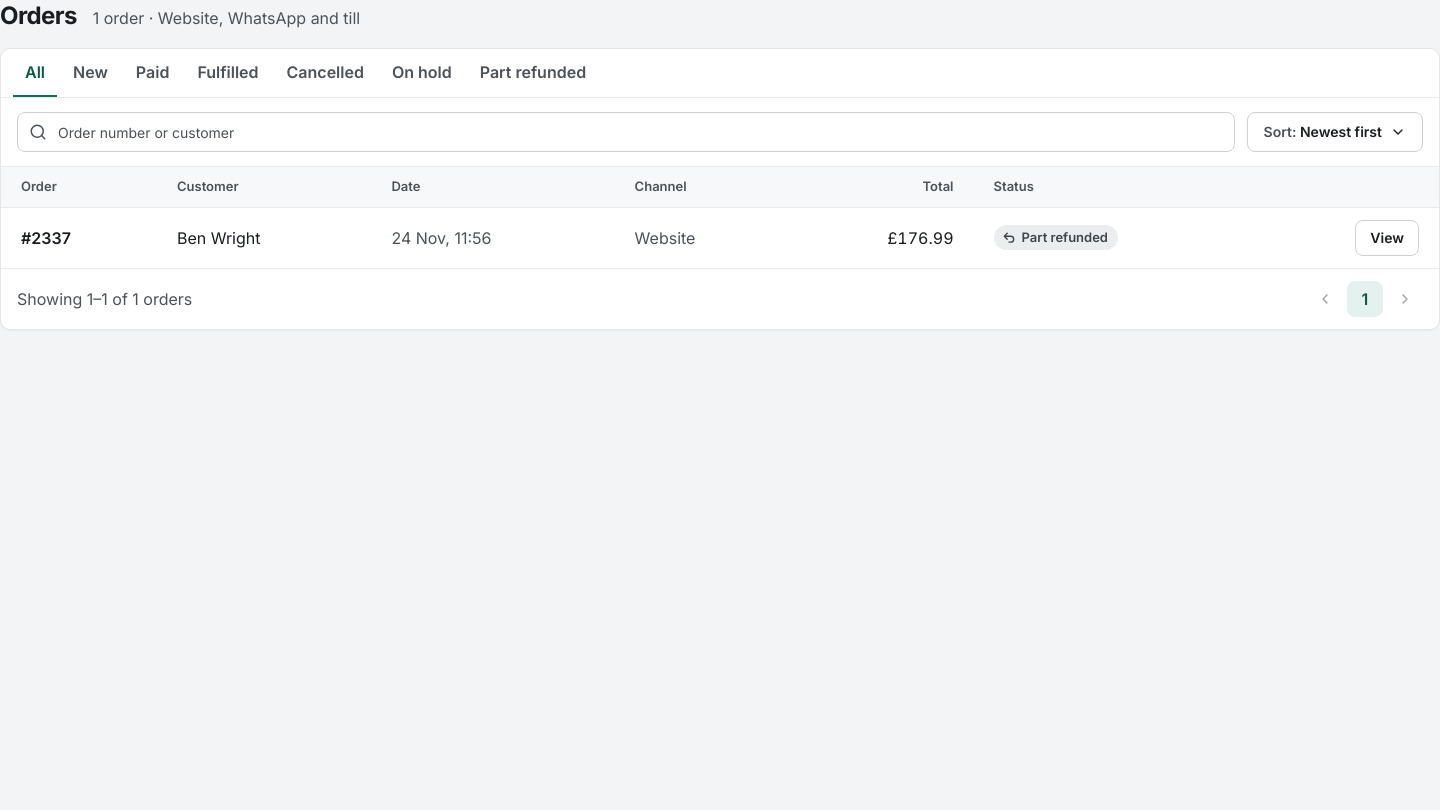
Test: Orders page with real-world data › shows part_refunded orders with their own label and never offers fulfilment
Expected: the row "2337" shows "Part refunded", [1022,229,1108,245]
Click the button with aria-label "View order #2337" at [1387, 238], box [1355,220,1419,256]
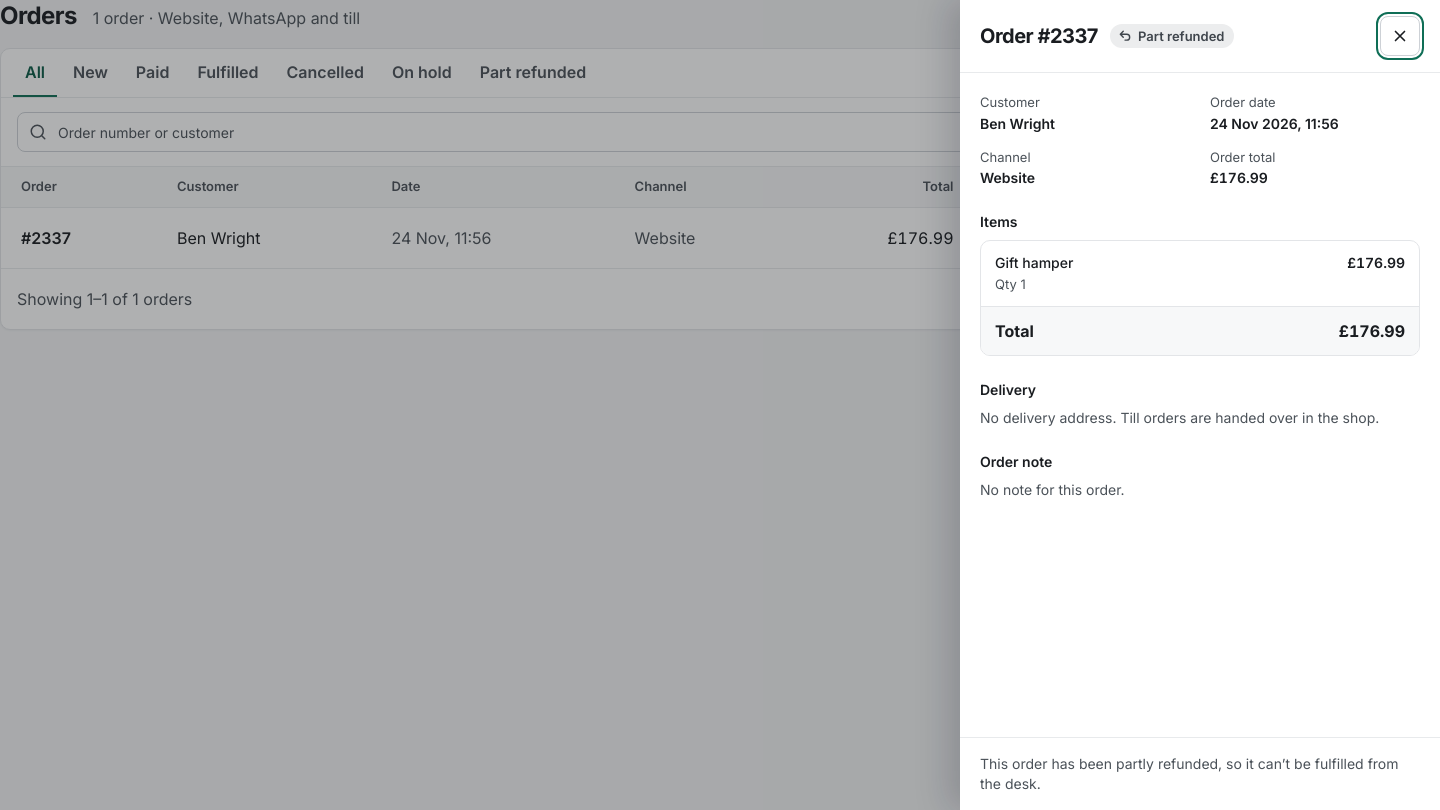
Result: the text "This order has been partly refunded, so it can’t be fulfilled from the desk." is shown at [980,754,1420,794]
